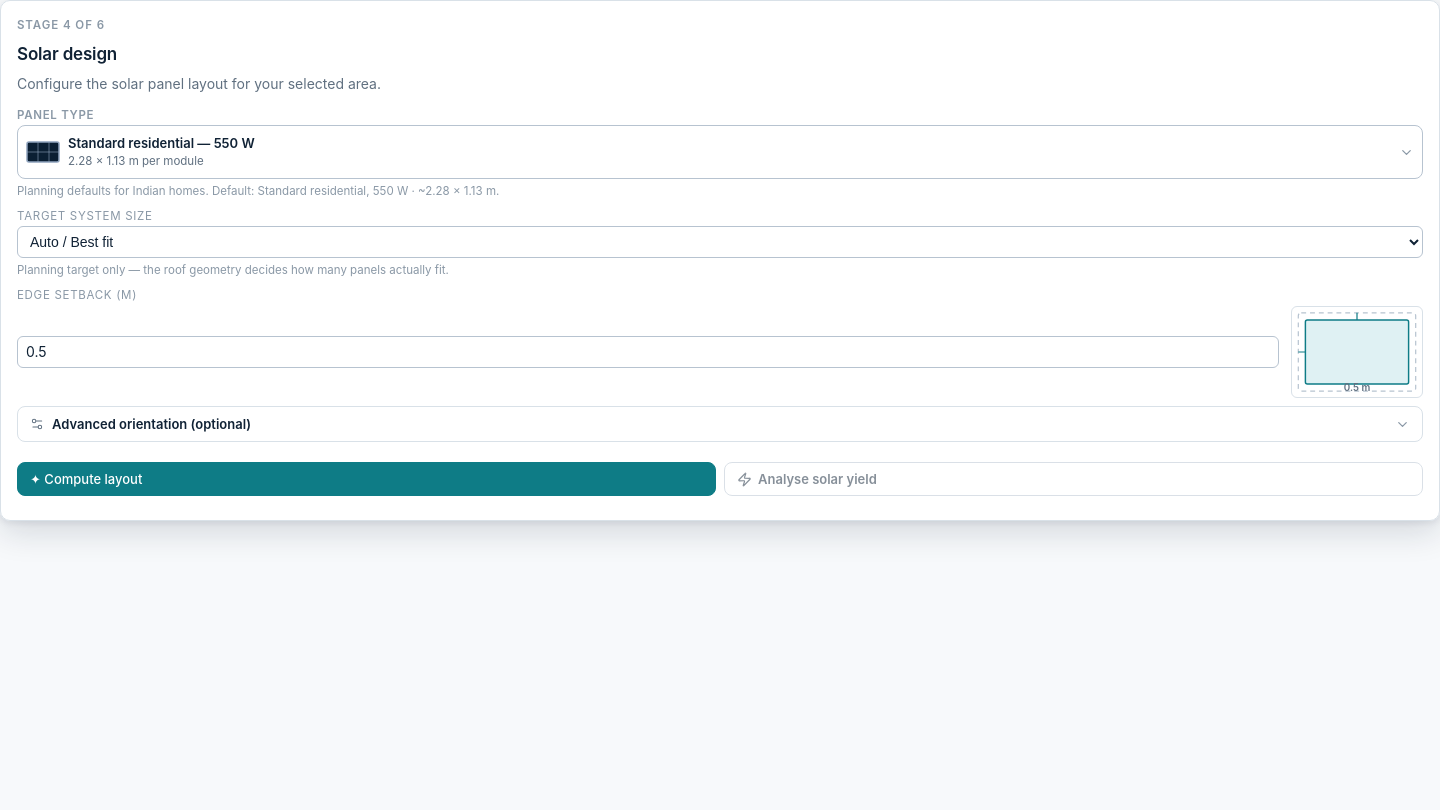
it: DesignPanel solar design › expands advanced orientation and resets to optimized
Step 1. Click the button "Advanced orientation (optional)" → coordinates (152, 424), box [18, 407, 1422, 441]
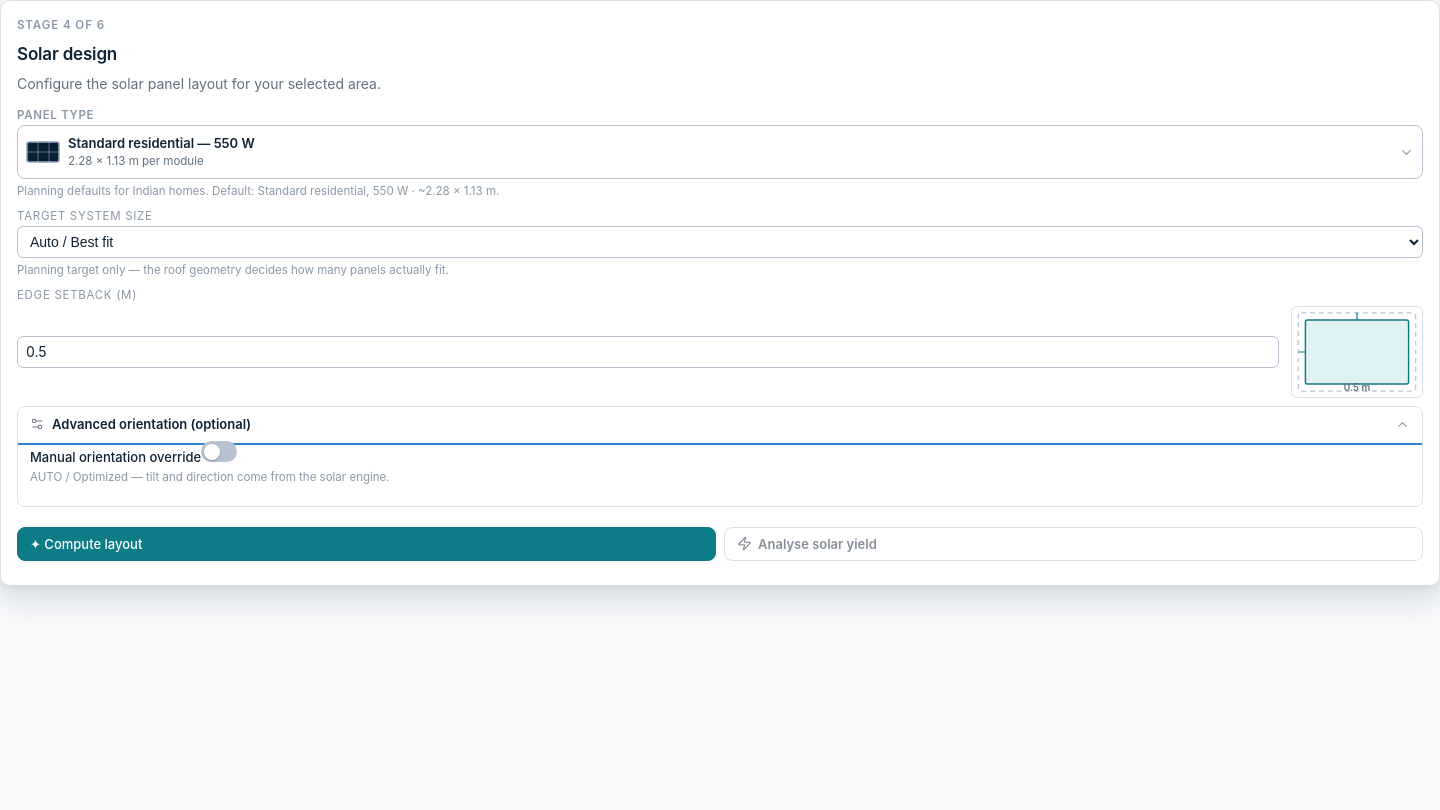
Step 2. Click the switch named "Manual orientation override" → coordinates (219, 452), box [201, 441, 237, 462]
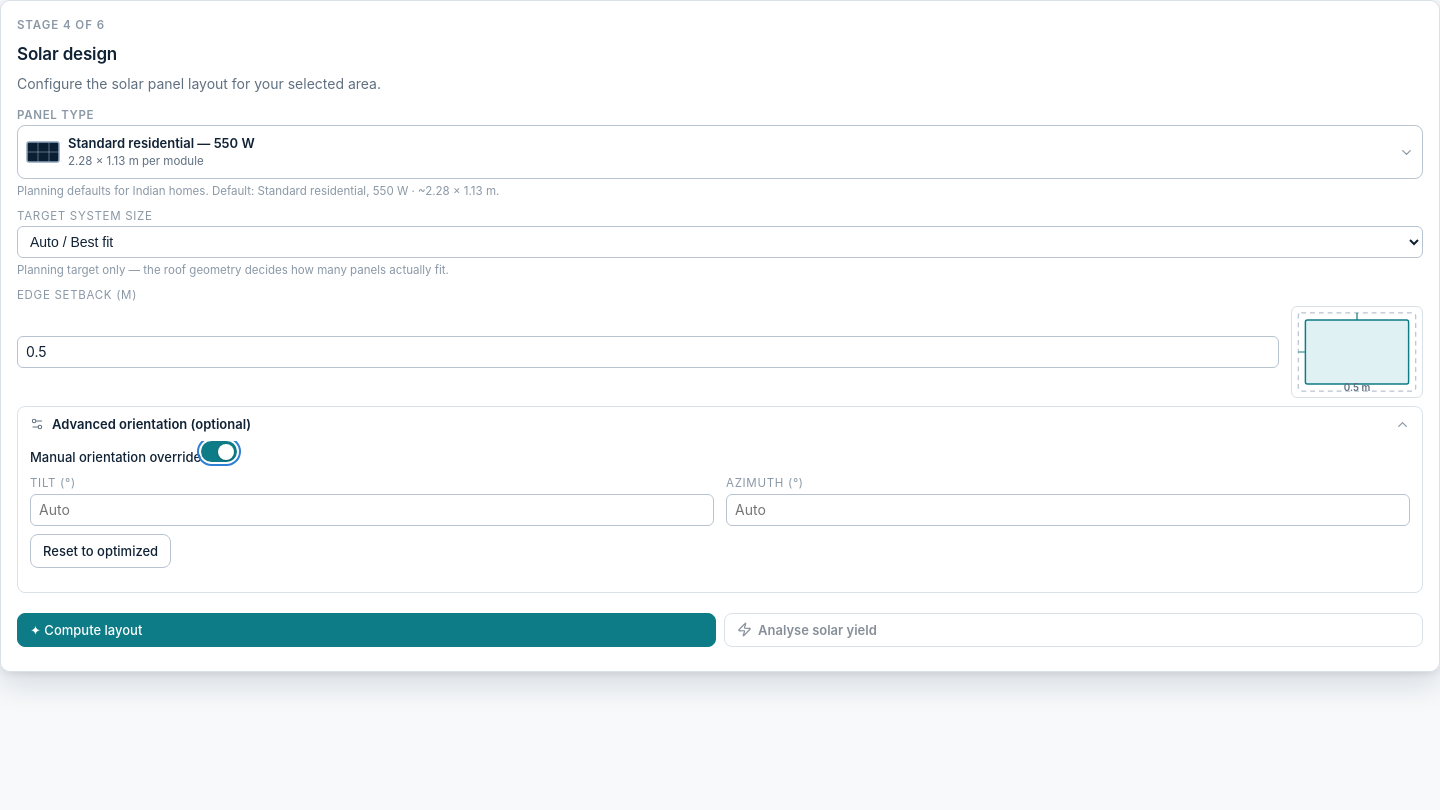
Result: the number field labelled "Tilt (°)" is shown at [30, 494, 714, 526]
Step 3. Click the button "Reset to optimized" → coordinates (101, 551), box [30, 534, 171, 568]
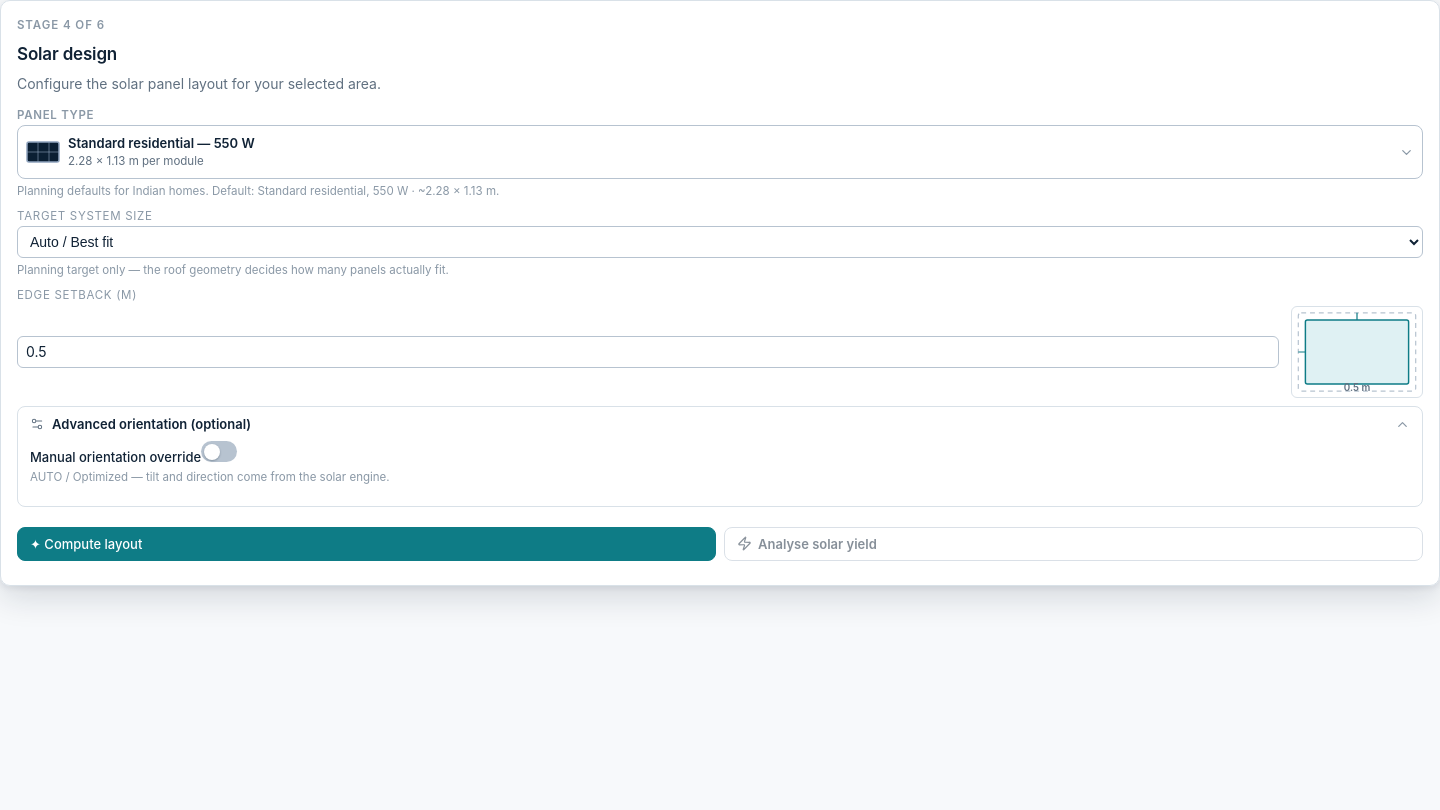
Result: the label labelled "Tilt (°)" is gone
